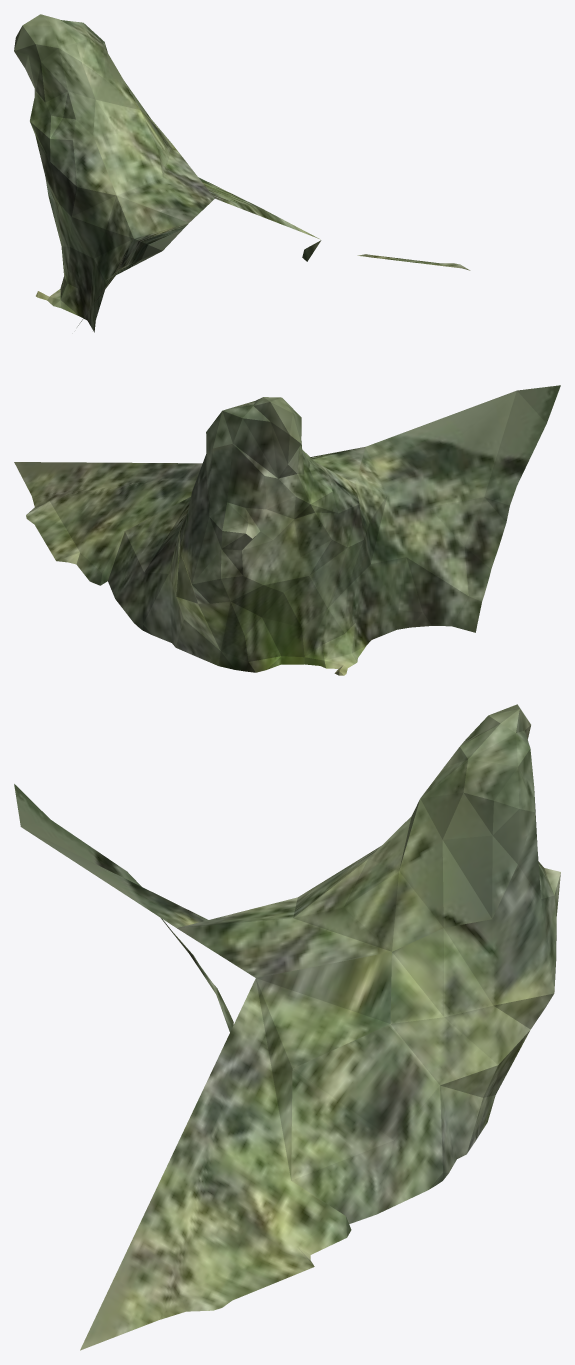
3 renders of one model, top to bottom at view 1: azimuth 30°, elevation 25°; view 2: azimuth 150°, elevation 25°; view 3: azimuth 270°, elevation 25°, orthographic. The views are drawn at different scales.
Bounding box in the file's own units: 4.82 × 2.55 × 3.39.
Materials: 1 (1 with a texture image).
